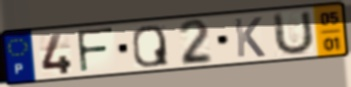2: (177, 17, 215, 68)
4: (40, 31, 75, 76)
F: (74, 26, 117, 75)
K: (232, 16, 268, 60)
Q: (130, 24, 171, 69)
U: (272, 9, 316, 59)
